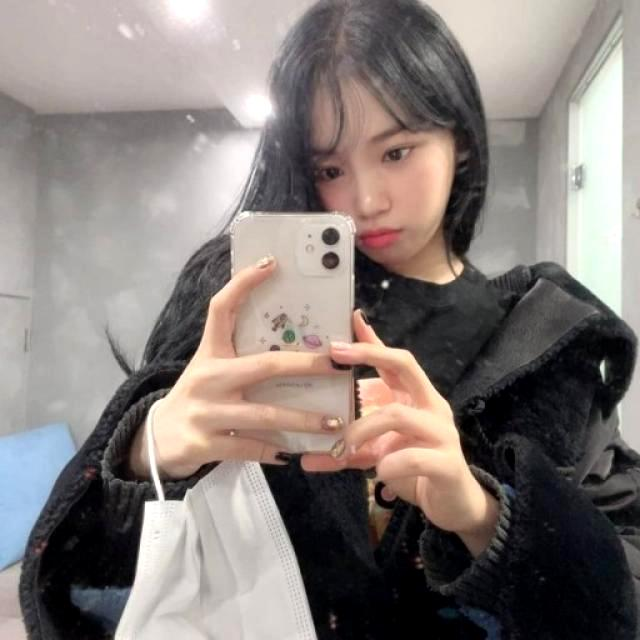lens_back: (320, 247, 343, 273), (320, 225, 342, 248)
phone: (228, 205, 359, 460)
